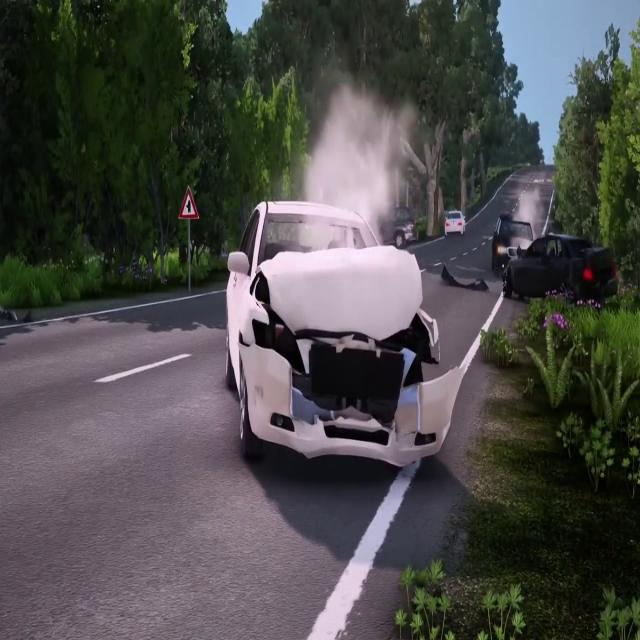accident: (492, 213, 620, 315)
